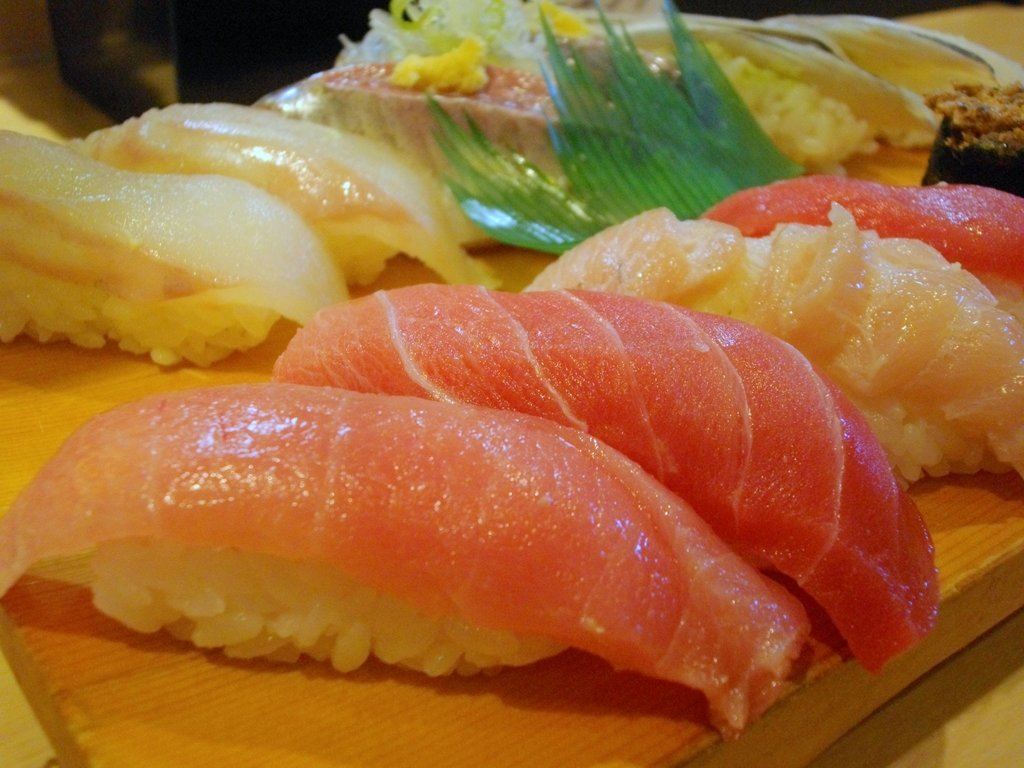sushi: (2, 2, 1023, 729)
